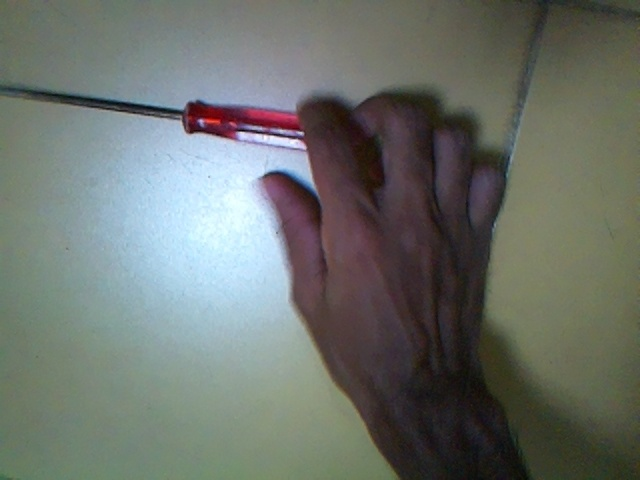redskrew: (1, 68, 312, 160)
